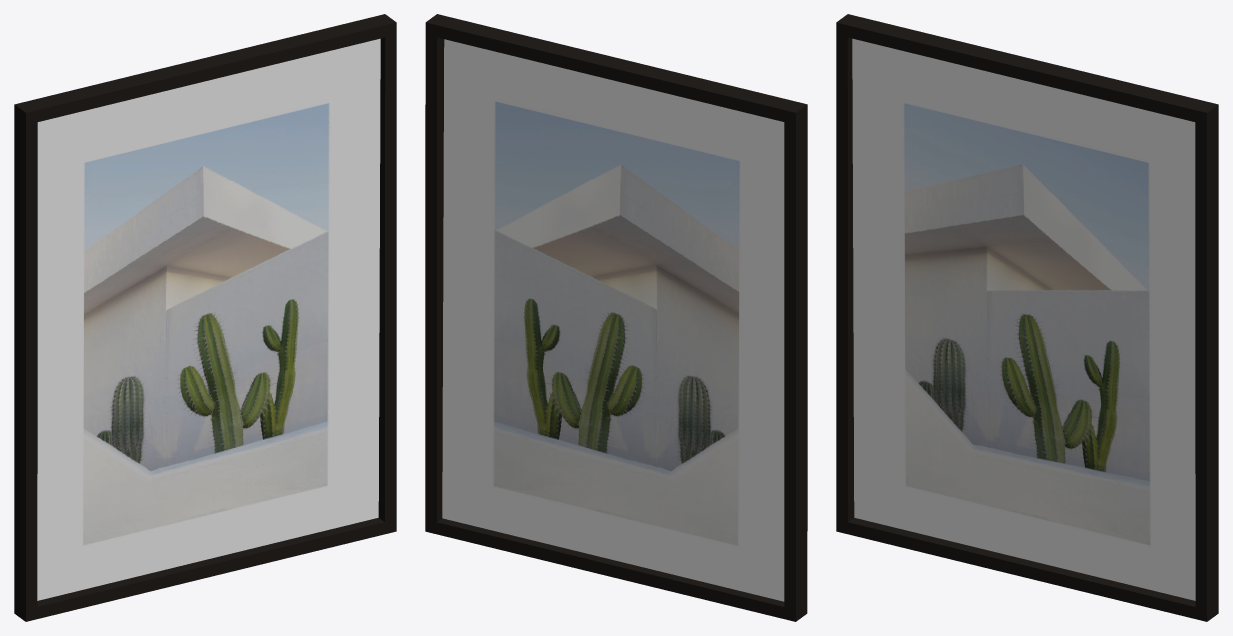
The model's file is P655153_kaktus_och_arkitektur_30x40_WEBB.glb.
The picture shows the model from 3 angles, left to right: view 1: azimuth 30°, elevation 25°; view 2: azimuth 150°, elevation 25°; view 3: azimuth 330°, elevation 25°; orthographic projection.
Visible parts, largest first — view 1: P655208_vintervass_30x40_WEBB, Frame2; view 2: P655208_vintervass_30x40_WEBB, Frame2; view 3: P655208_vintervass_30x40_WEBB, Frame2.
Boxes of the visible parts, x1,y1,x2,y2 form: P655208_vintervass_30x40_WEBB: (37,38,380,600); Frame2: (14,14,396,621); P655208_vintervass_30x40_WEBB: (442,39,784,601); Frame2: (425,14,807,621); P655208_vintervass_30x40_WEBB: (852,38,1195,600); Frame2: (836,14,1218,621).
Size of the model in its own units: 0.2576 by 0.3381 by 0.0143.
2 materials, 2 textured.
